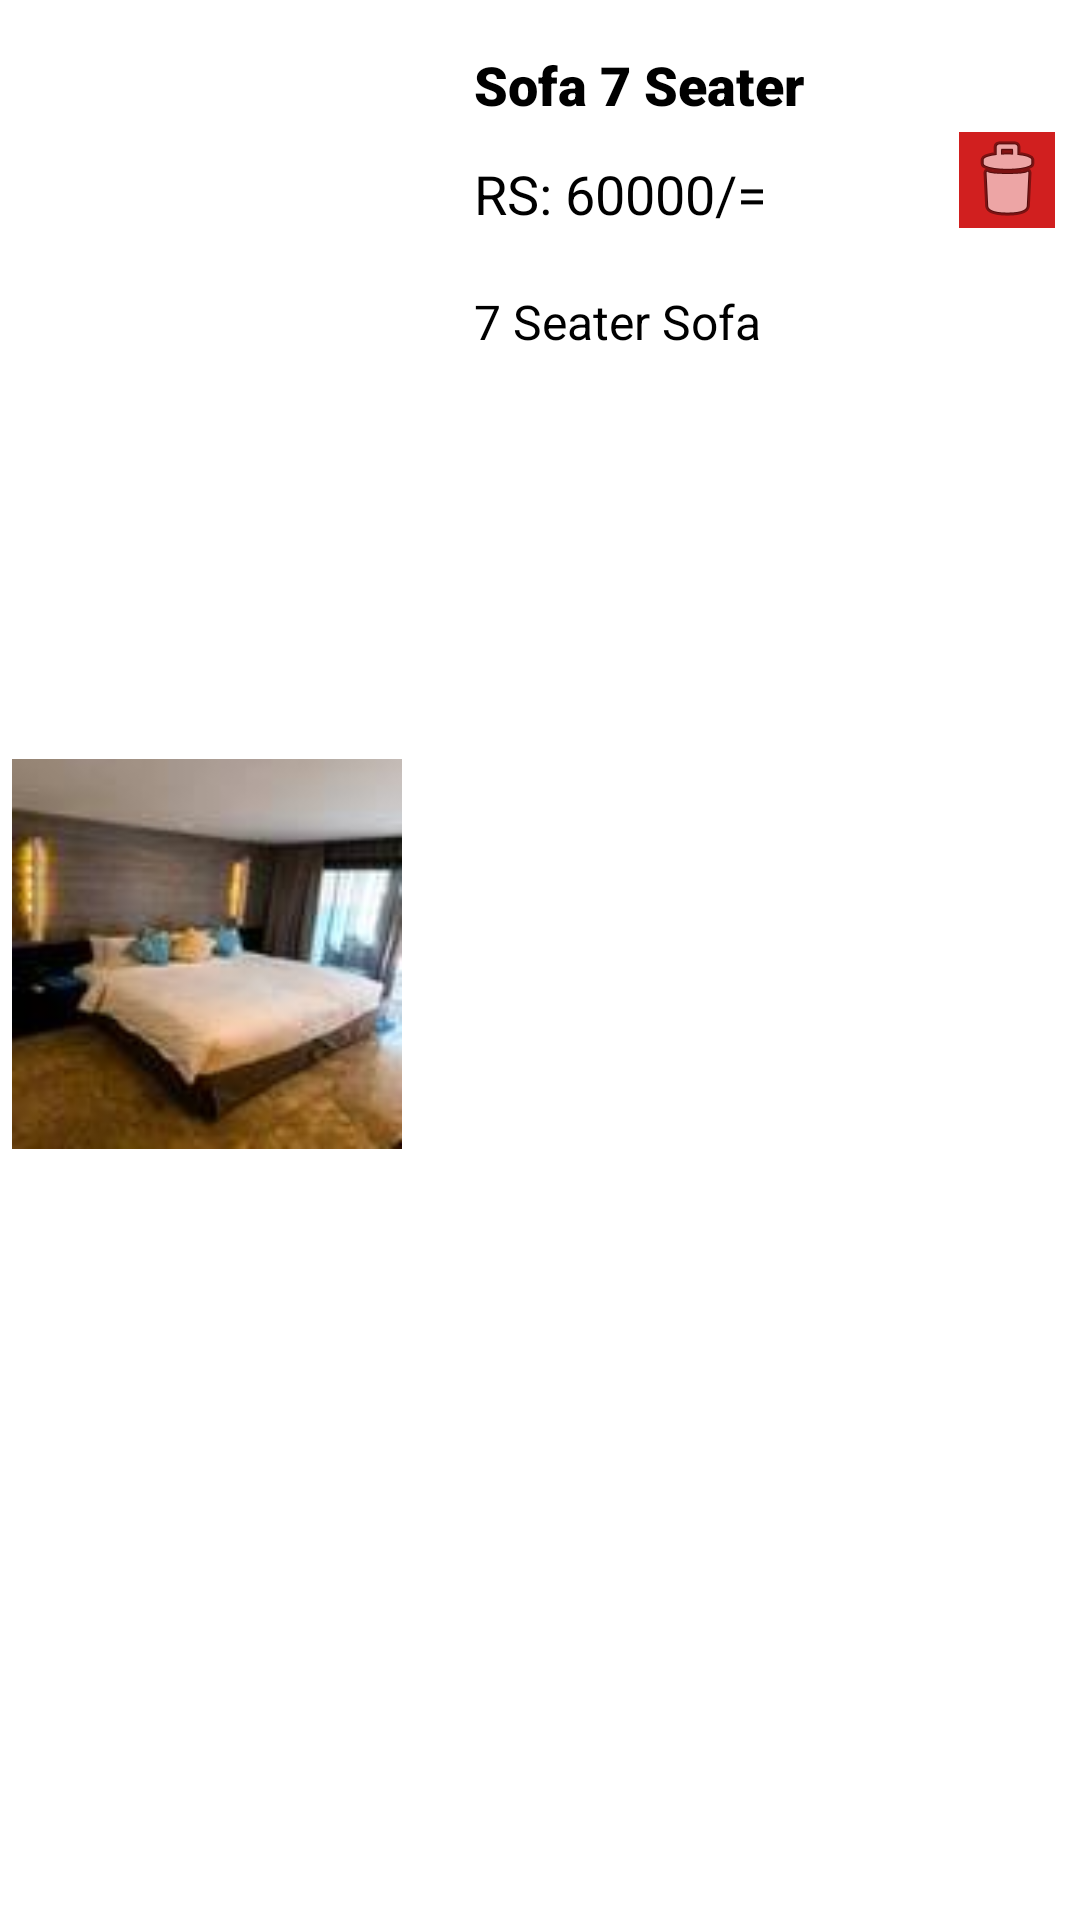

Where icons sit on this 1080 × 1920 app screen, as (x1, y1, x2, y2):
delete: (959, 132, 1055, 228)
